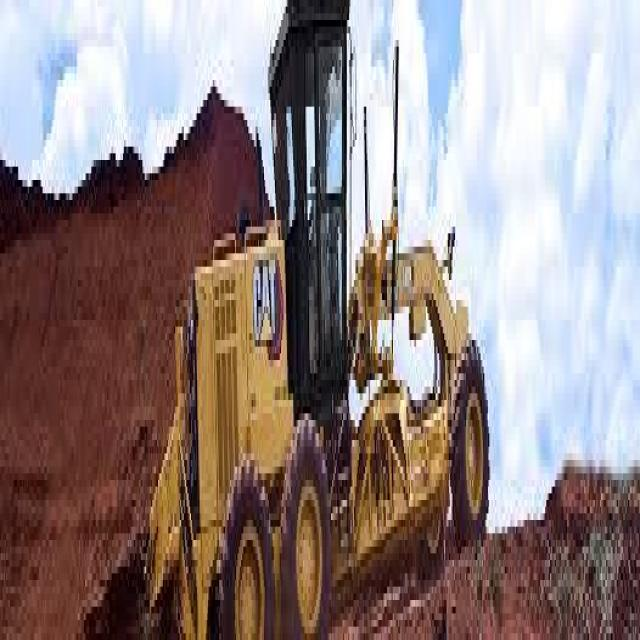buldozerpayloadergrader: (158, 20, 498, 633)
